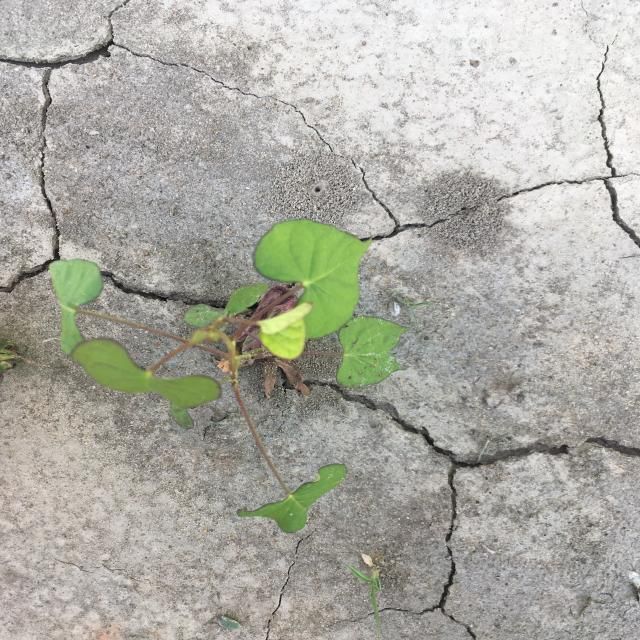MorningGlory: (49, 220, 412, 533)
